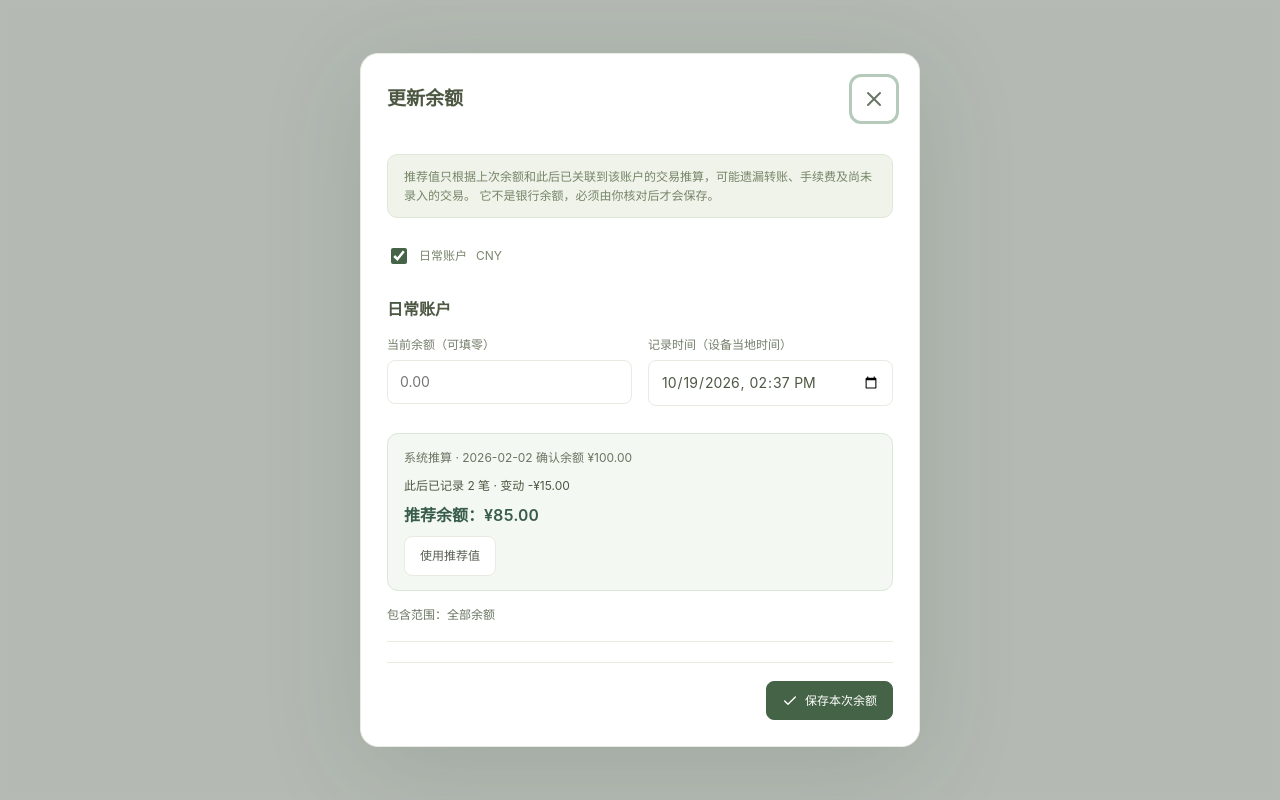
Test: keeps the editor open and does not retry saving when its source balance changed
Step 1. Click the button "使用推荐值" → click(450, 556), box [404, 536, 496, 576]
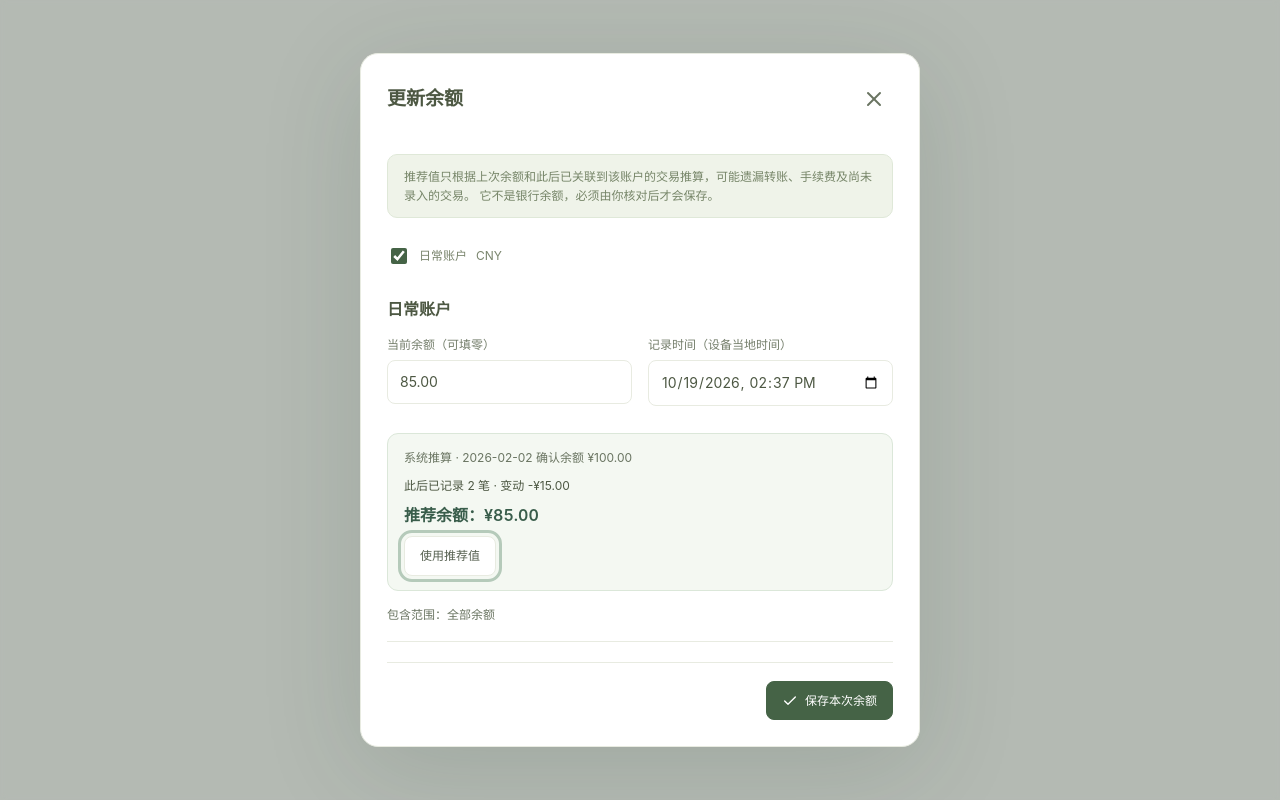
Step 2. Click the button "保存本次余额" → click(830, 701), box [766, 681, 893, 720]
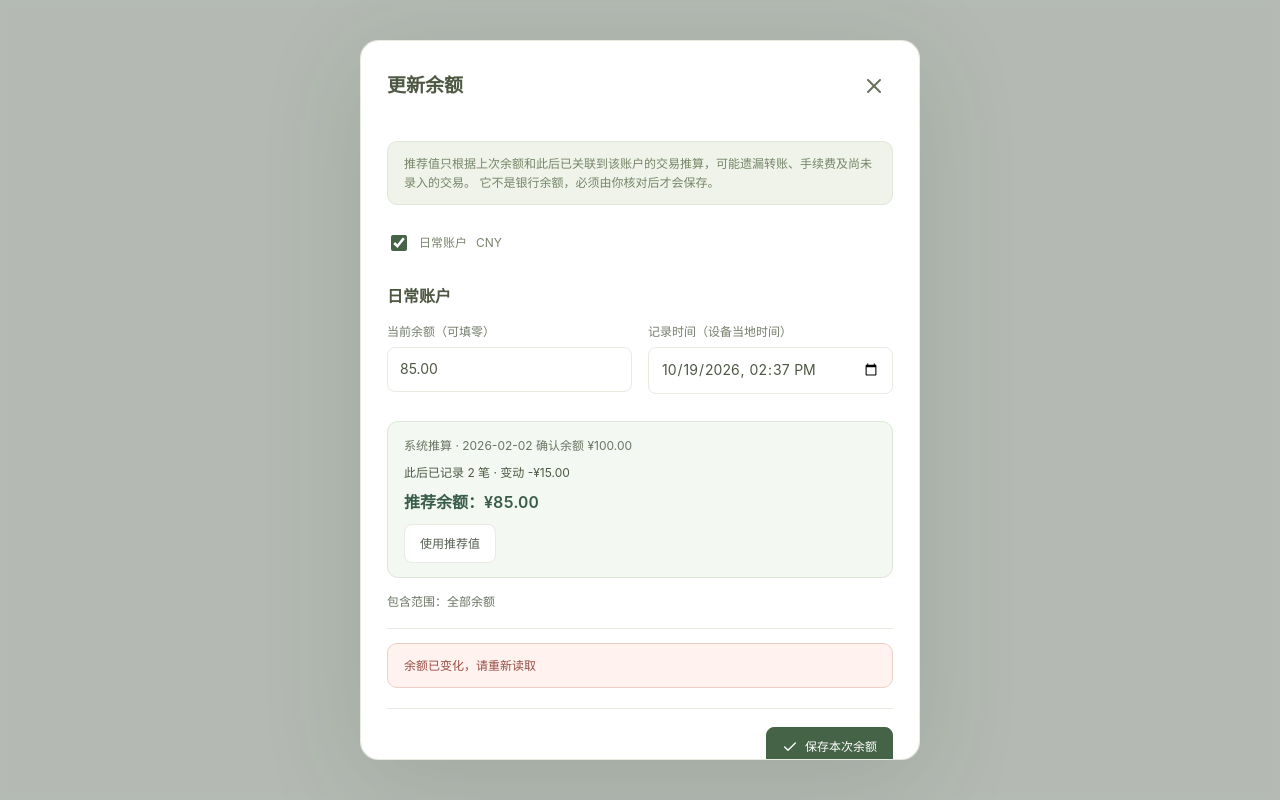
Result: the field labelled "当前余额（可填零）" holds "85.00" at [387, 347, 632, 392]
Result: the text "余额已变化，请重新读取" is shown at [387, 643, 893, 688]
